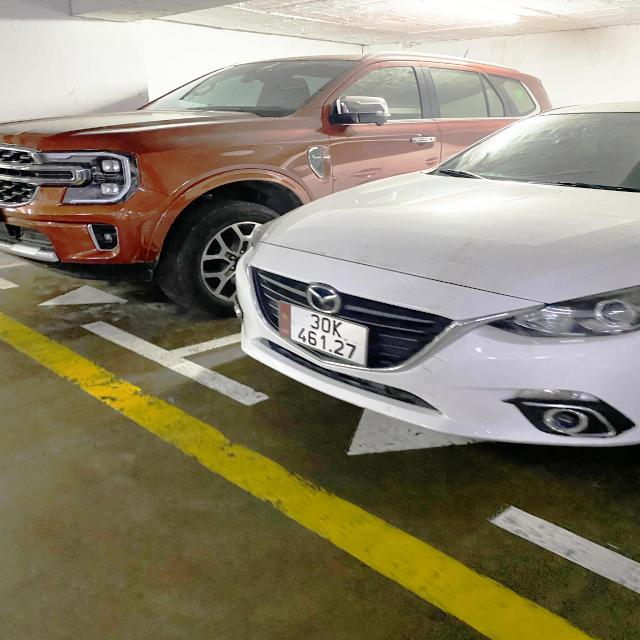license_plate: (277, 301, 372, 369)
